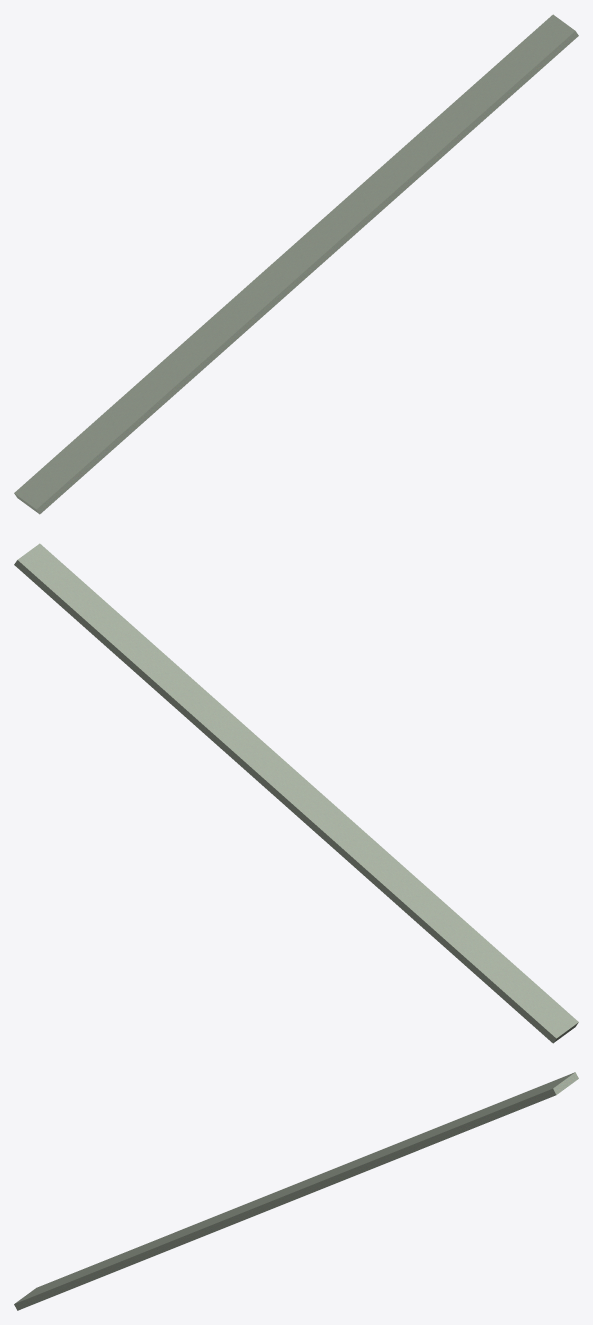
File: azdb012-geode.glb
The picture shows the model from 3 angles, top to bottom: view 1: azimuth 30°, elevation 25°; view 2: azimuth 150°, elevation 25°; view 3: azimuth 330°, elevation 25°; orthographic projection.
Parts seen in each view (by area): view 1: Node; view 2: Node; view 3: Node.
Boxes of the visible parts, <box> form: Node: <box>14,14,578,514</box>; Node: <box>14,543,578,1043</box>; Node: <box>14,1072,578,1310</box>.
Bounding box in the file's own units: 2.76 × 1.71 × 0.198.
Materials: 1 (1 with a texture image).
